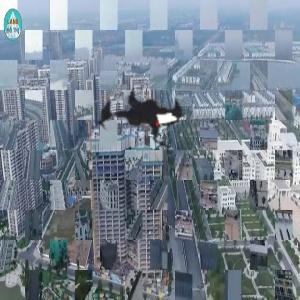drone: (72, 55, 209, 192)
